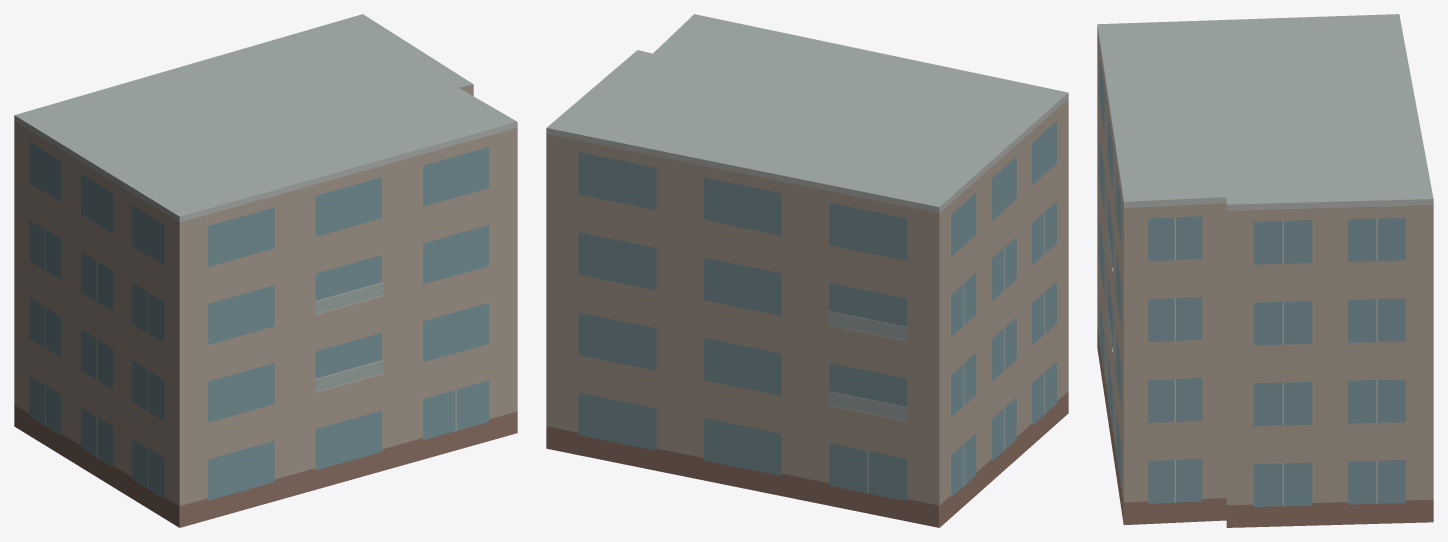
File: survey-upis-33014131.glb
3 renders of one model, left to right at view 1: azimuth 30°, elevation 25°; view 2: azimuth 150°, elevation 25°; view 3: azimuth 270°, elevation 25°, orthographic. The views are drawn at different scales.
Parts seen in each view (by area): view 1: survey-upis-33014131.tmp; view 2: survey-upis-33014131.tmp; view 3: survey-upis-33014131.tmp.
Boxes of the visible parts, <box> form: survey-upis-33014131.tmp: <box>14,14,517,527</box>; survey-upis-33014131.tmp: <box>546,14,1068,527</box>; survey-upis-33014131.tmp: <box>1097,14,1433,527</box>.
Bounding box in the file's own units: 16.2 × 12.8 × 12.08.
